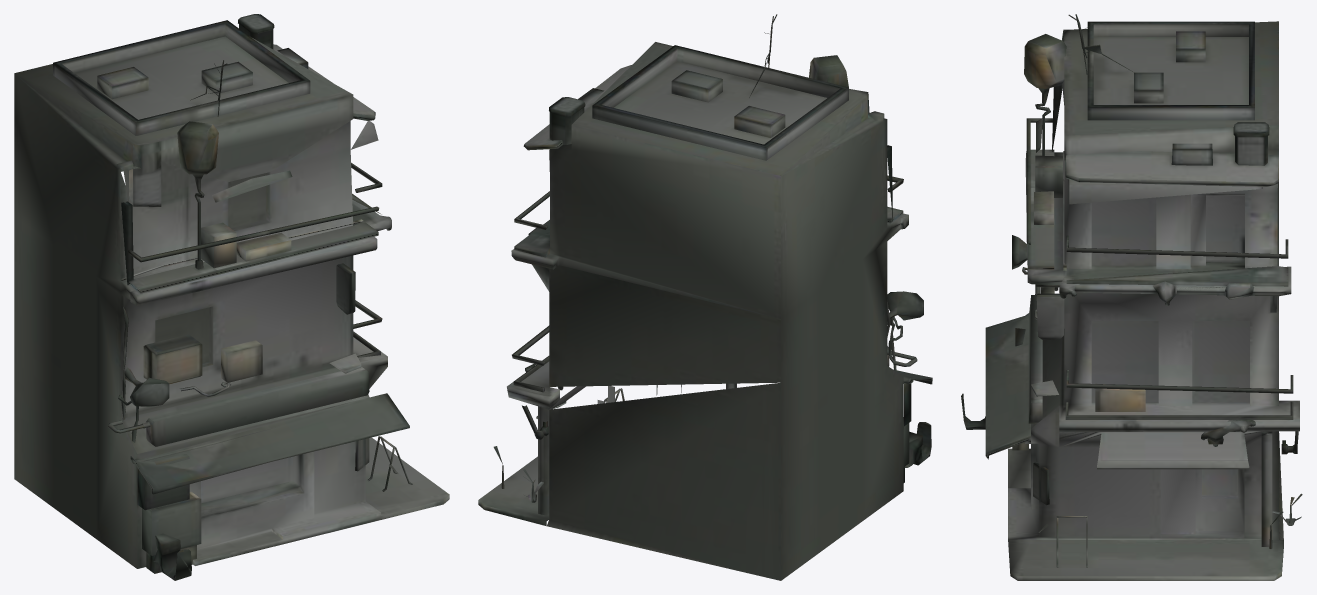
Rendered from border_guesthouse.glb.
3 views of the same model, side by side, from view 1: azimuth 30°, elevation 25°; view 2: azimuth 150°, elevation 25°; view 3: azimuth 270°, elevation 25° (orthographic).
Visible parts, largest first — view 1: Body; view 2: Body; view 3: Body.
Part boxes in pixels (x1=…): Body: x1=14, y1=14, x2=449, y2=580; Body: x1=478, y1=14, x2=932, y2=580; Body: x1=961, y1=14, x2=1302, y2=580.
Bounding box in the file's own units: 8.96 × 12.32 × 8.13.
1 material, 1 textured.
